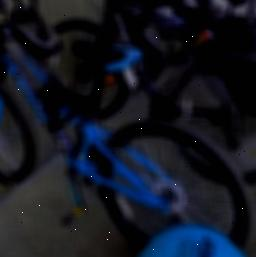algae: (127, 225, 256, 257)
